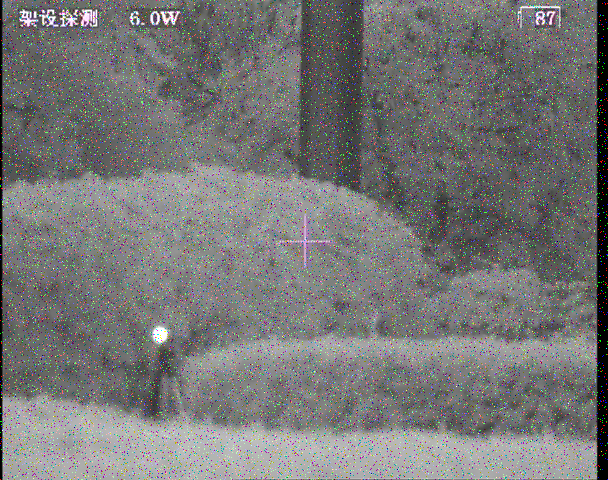my: (151, 326, 168, 345)
